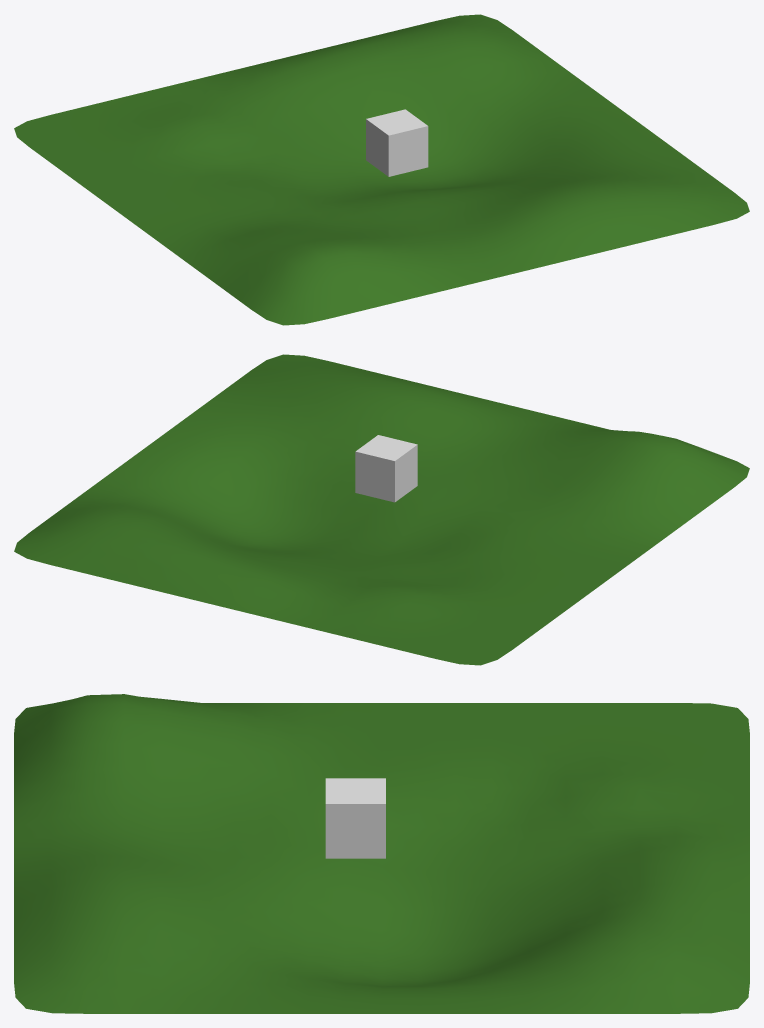
File: World.glb
3 renders of one model, top to bottom at view 1: azimuth 30°, elevation 25°; view 2: azimuth 150°, elevation 25°; view 3: azimuth 270°, elevation 25°, orthographic. The views are drawn at different scales.
Visible parts, largest first — view 1: ground.001, Cube.002; view 2: ground.001, Cube.002; view 3: ground.001, Cube.002.
Part boxes in pixels (left/top/right/bottom): ground.001: left=14, top=14, right=749, bottom=325; Cube.002: left=366, top=109, right=428, bottom=176; ground.001: left=14, top=354, right=749, bottom=665; Cube.002: left=355, top=435, right=417, bottom=502; ground.001: left=14, top=694, right=749, bottom=1013; Cube.002: left=325, top=778, right=385, bottom=858.
Size of the model in its own units: 80 by 14.46 by 80.
